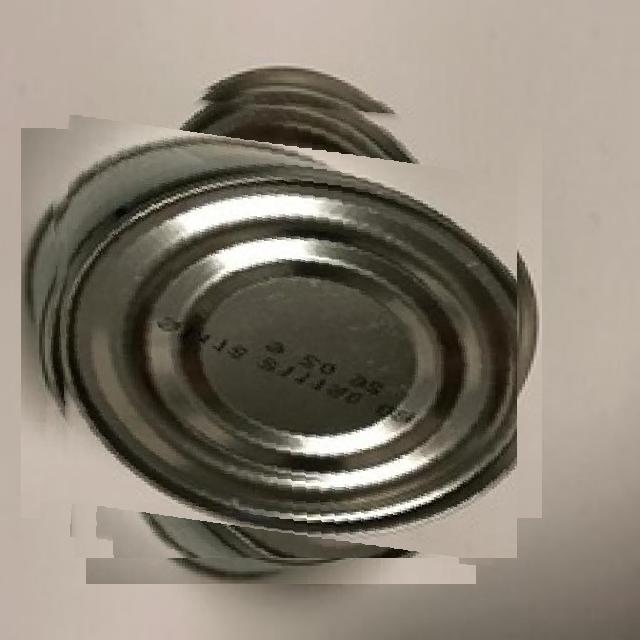recyclable: (46, 88, 517, 558)
